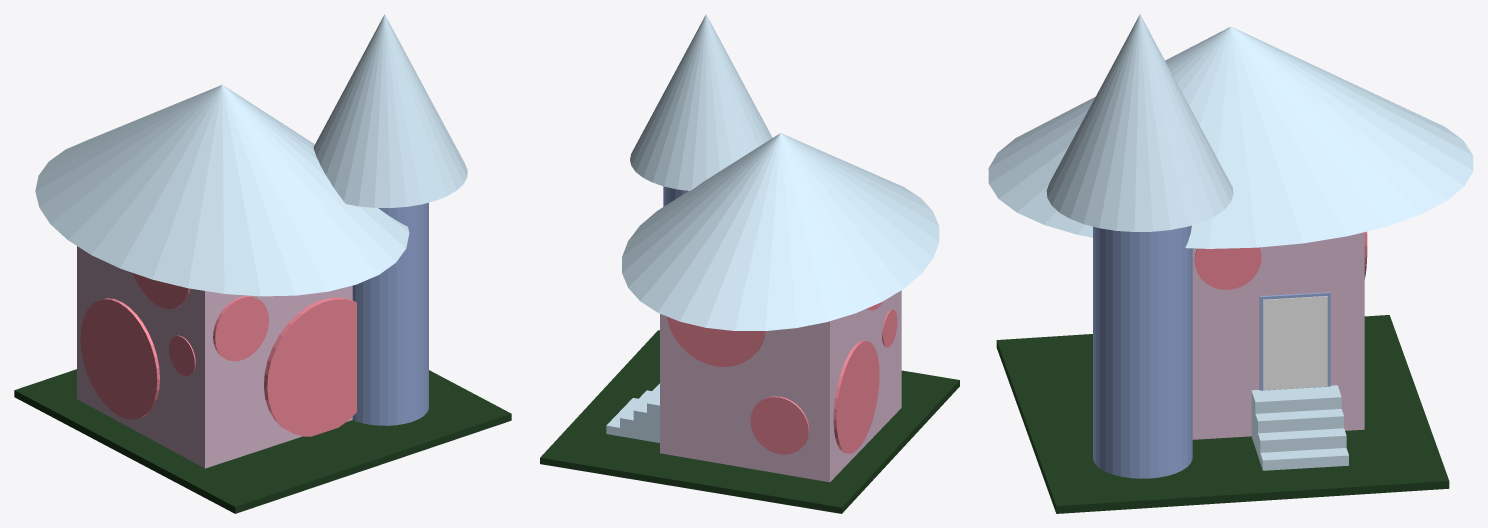
The model's file is house.glb.
3 renders of one model, left to right at view 1: azimuth 30°, elevation 25°; view 2: azimuth 150°, elevation 25°; view 3: azimuth 270°, elevation 25°, orthographic. The views are drawn at different scales.
Parts seen in each view (by area): view 1: Cone, Cube.002, Cube, Cone.001, Cylinder.003, Cylinder.002, Cylinder.009, Cylinder.001, Cylinder.008, Cylinder.010; view 2: Cone, Cube.002, Cube, Cone.001, Cylinder.009, Cylinder.005, Cylinder.006, Cube.007, Cube.006, Cube.008; view 3: Cone, Cube, Cylinder.003, Cone.001, Cube.002, Cube.005, Cylinder.004, Cube.006, Cube.007, Cube.008, Cube.009, Cube.004.
Boxes of the visible parts, x1,y1,x2,y2 form: Cone: (35,84,409,296); Cube.002: (77,246,352,468); Cube: (14,369,511,513); Cone.001: (313,14,467,207); Cylinder.003: (352,202,428,425); Cylinder.002: (264,297,356,436); Cylinder.009: (80,298,159,419); Cylinder.001: (213,296,268,361); Cylinder.008: (133,273,190,309); Cylinder.010: (169,335,195,376); Cone: (622,133,939,330); Cube.002: (660,290,901,482); Cube: (540,330,959,513); Cone.001: (630,14,772,190); Cylinder.009: (833,340,879,453); Cylinder.005: (667,316,765,366); Cylinder.006: (750,396,809,454); Cube.007: (633,383,659,440); Cube.006: (647,390,659,442); Cube.008: (620,390,651,438); Cone: (988,26,1473,248); Cube: (996,315,1449,513); Cylinder.003: (1093,225,1192,478); Cone.001: (1046,14,1233,231); Cube.002: (1192,232,1364,439); Cube.005: (1263,296,1327,390); Cylinder.004: (1194,247,1261,289); Cube.006: (1251,385,1341,446); Cube.007: (1255,409,1343,453); Cube.008: (1257,428,1346,462); Cube.009: (1260,448,1348,470); Cube.004: (1259,292,1330,390).
Bounding box in the file's own units: 10.14 × 10.92 × 10.65.
